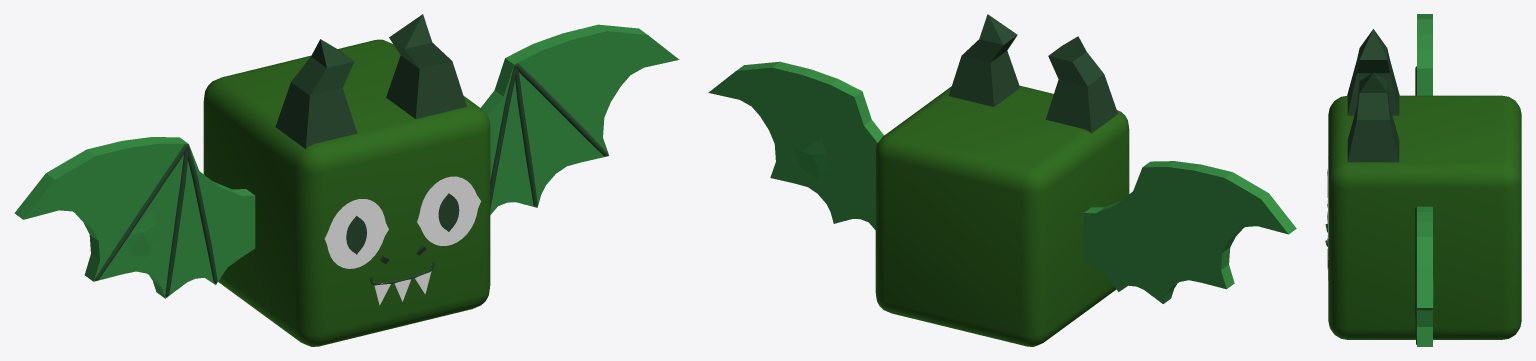
The model's file is Dragon.fbx.
3 renders of one model, left to right at view 1: azimuth 30°, elevation 25°; view 2: azimuth 150°, elevation 25°; view 3: azimuth 270°, elevation 25°, orthographic. The views are drawn at different scales.
Visible parts, largest first — view 1: Dragon; view 2: Dragon; view 3: Dragon.
Part boxes in pixels (x1,y1,x2,y2): Dragon: (14, 14, 679, 346); Dragon: (708, 14, 1296, 346); Dragon: (1325, 14, 1521, 346).
Size of the model in its own units: 683 by 289 by 203.
